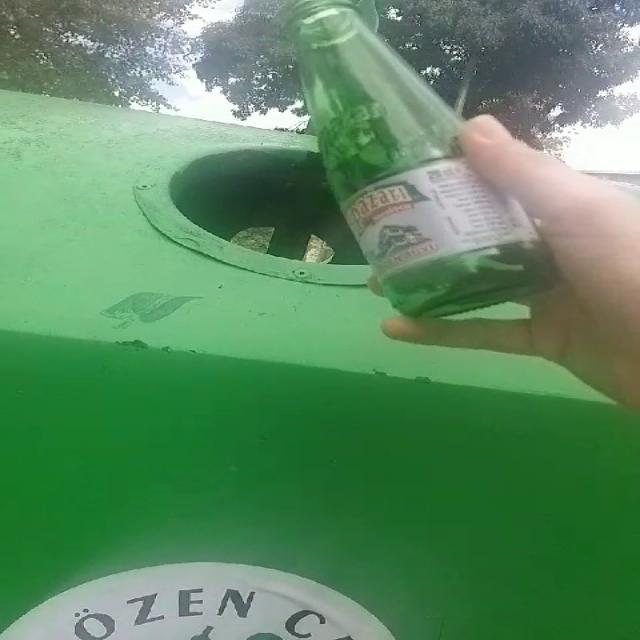glass: (287, 0, 556, 317)
